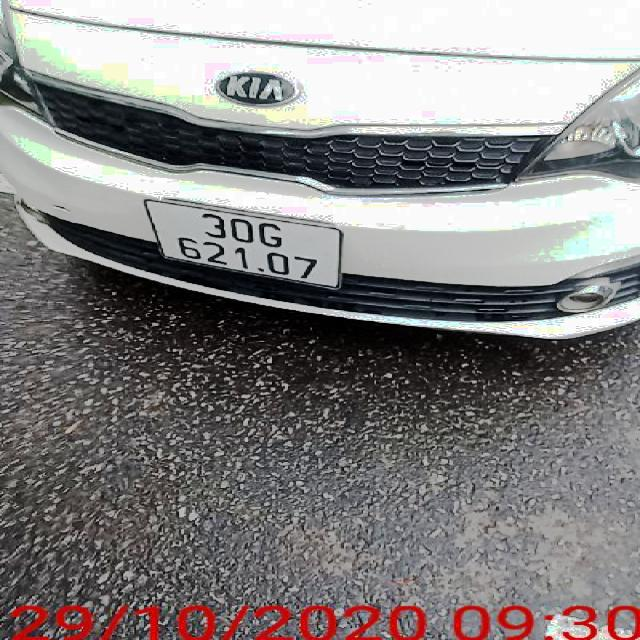license_plate: (143, 199, 340, 287)
